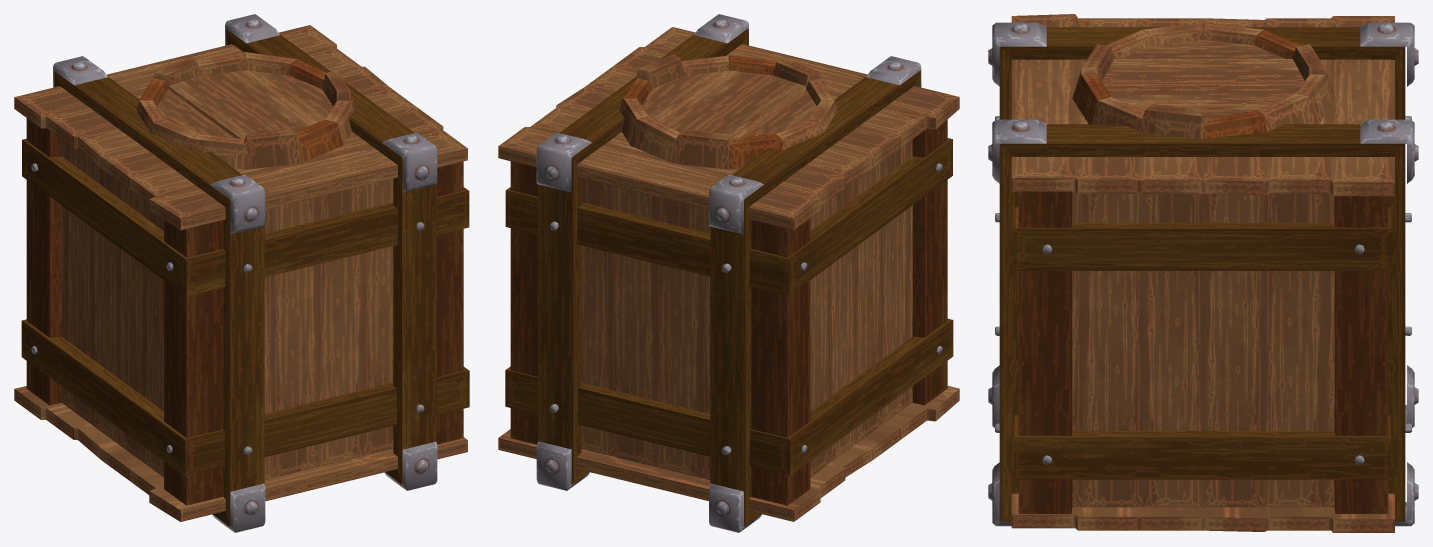
The model's file is props.glb.
3 renders of one model, left to right at view 1: azimuth 30°, elevation 25°; view 2: azimuth 150°, elevation 25°; view 3: azimuth 270°, elevation 25°, orthographic. The views are drawn at different scales.
Parts seen in each view (by area): view 1: Crate_Wooden, Barrel; view 2: Crate_Wooden, Barrel; view 3: Crate_Wooden, Barrel.
Part boxes in pixels (bbox=[...]): Crate_Wooden: bbox=[14, 14, 469, 532]; Barrel: bbox=[136, 52, 355, 169]; Crate_Wooden: bbox=[498, 14, 959, 532]; Barrel: bbox=[619, 54, 837, 169]; Crate_Wooden: bbox=[988, 14, 1418, 532]; Barrel: bbox=[1072, 22, 1334, 139].
Bounding box in the file's own units: 0.8423 × 0.9538 × 0.9083.
Materials: 2 (2 with a texture image).
